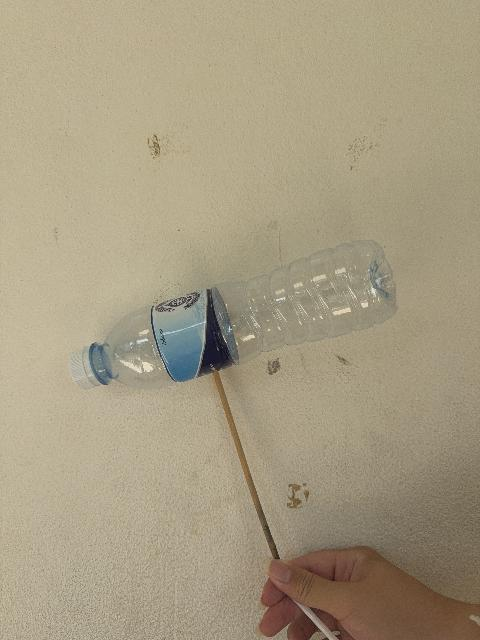bottle: (69, 241, 396, 388)
